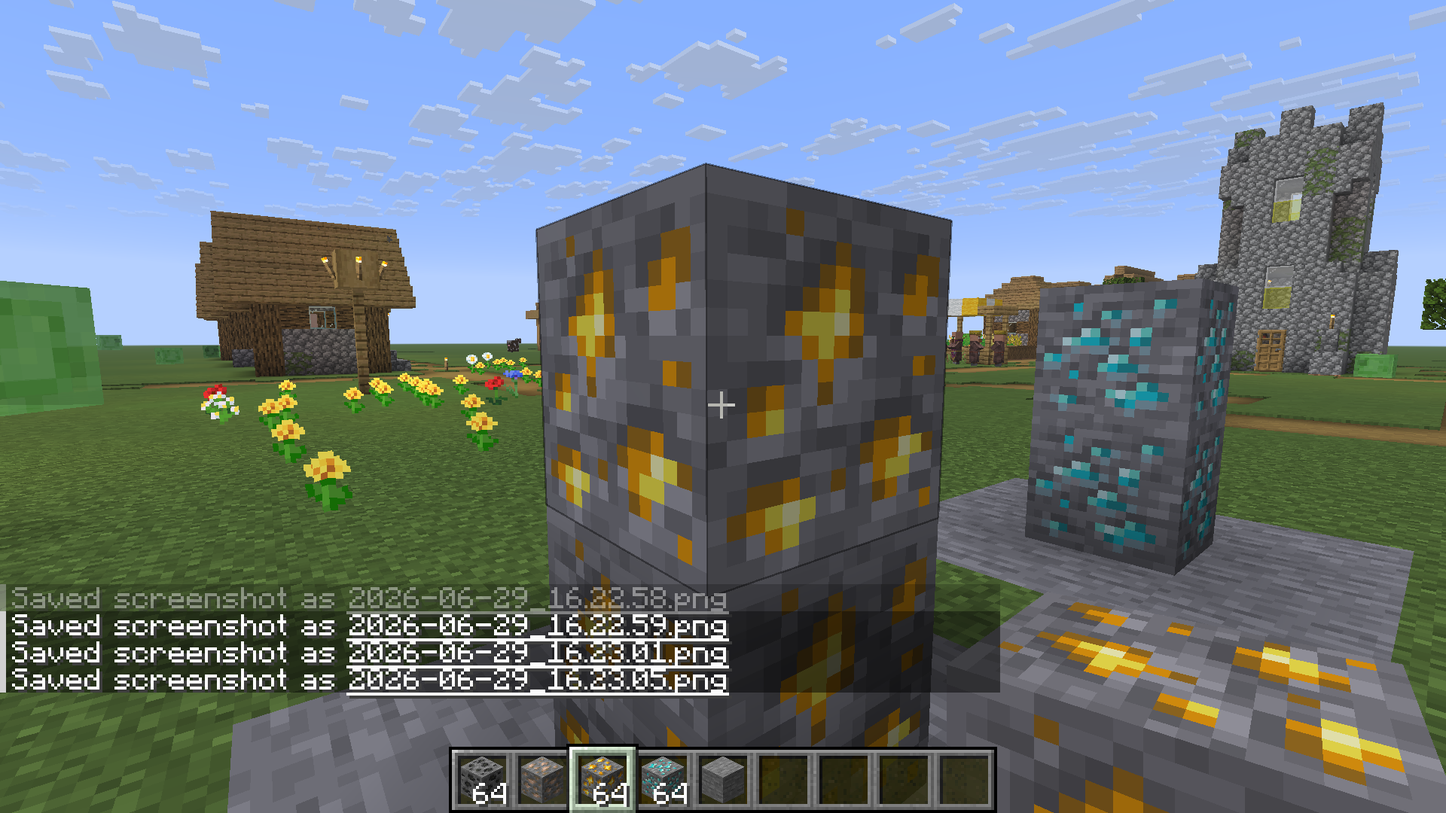diamond ore: (1027, 425, 1223, 573), (1033, 281, 1203, 435)
gold ore: (538, 166, 951, 597)
villager: (949, 319, 1011, 373)
